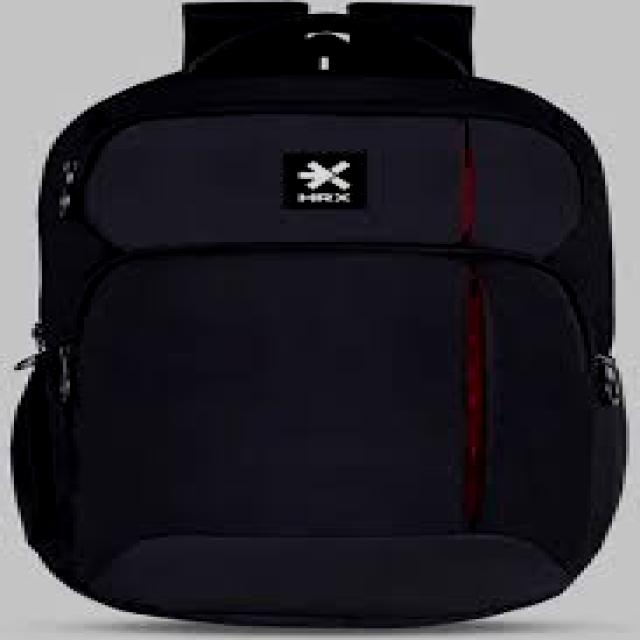backpack: (8, 1, 627, 629)
